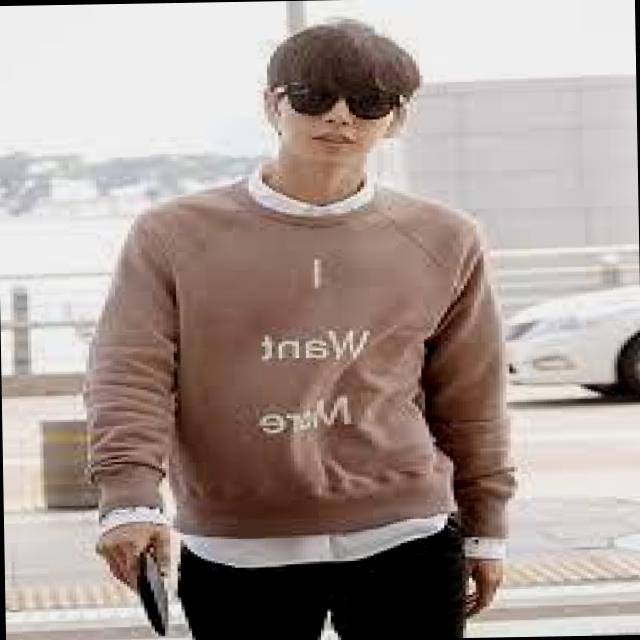sweater: (75, 171, 542, 555)
